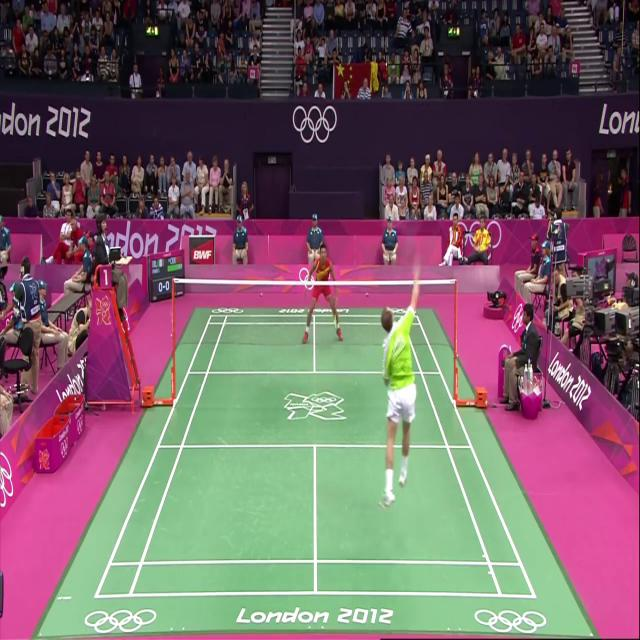Net: (174, 278, 458, 379)
Player1: (356, 271, 432, 532)
Player2: (304, 226, 339, 356)
Shuttlecock: (394, 174, 416, 207)
